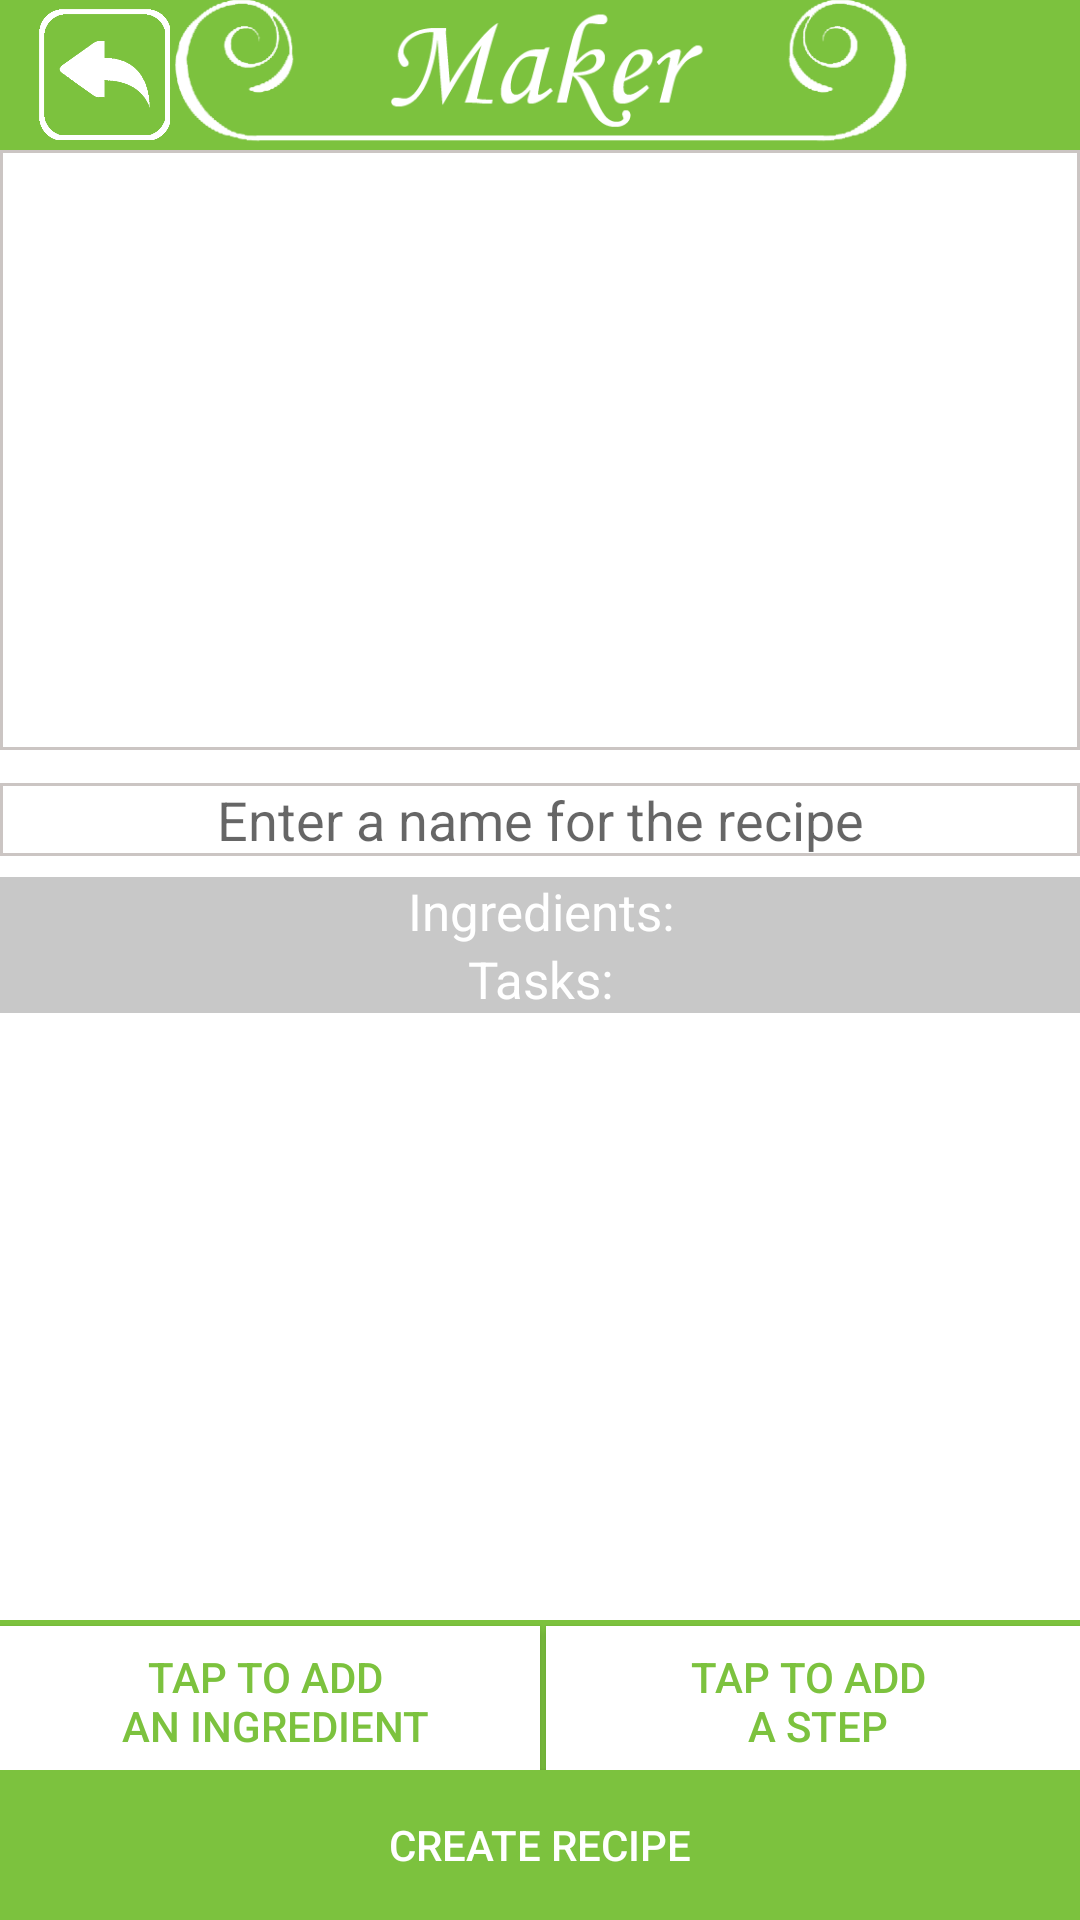

Icons on this 1080px x 1920px Android screen, each with the point to tap as (x=x, y=y):
backbutton: (x=104, y=74)
